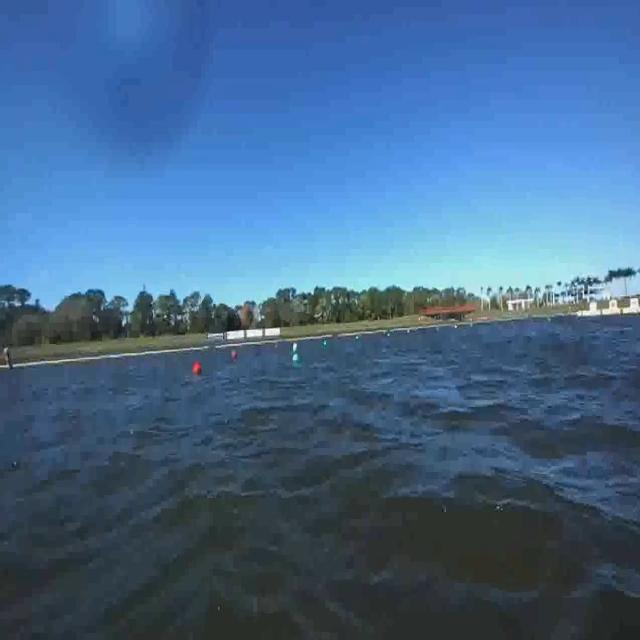green-buoy: (290, 349, 300, 366)
red-buoy: (192, 361, 201, 376)
